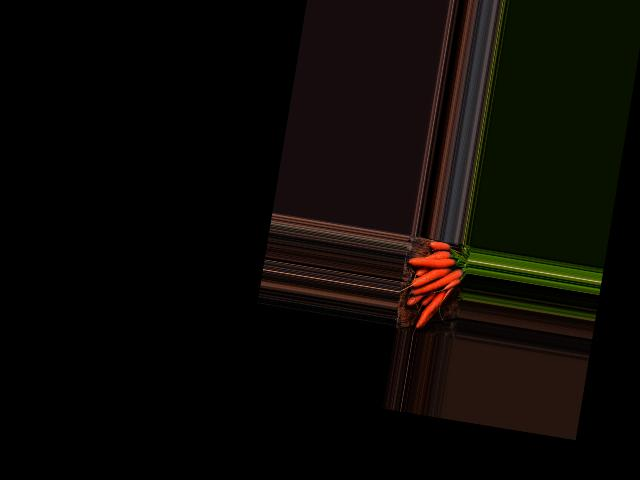carrot: (413, 286, 446, 330)
